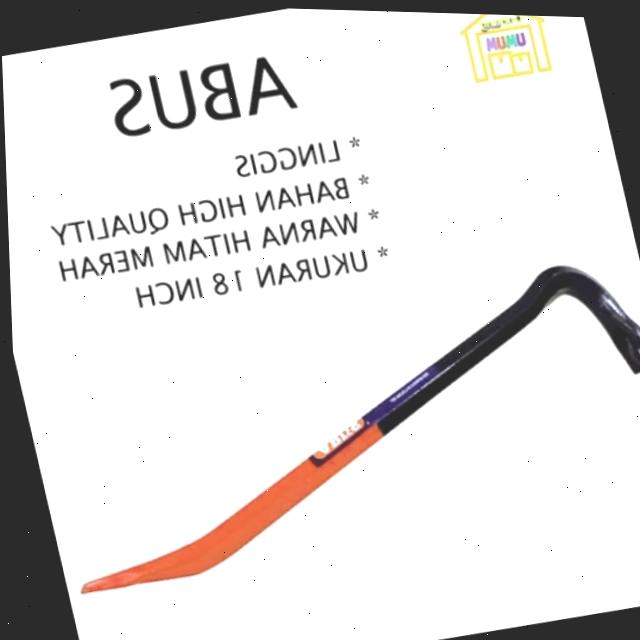crow bar: (74, 254, 640, 592)
